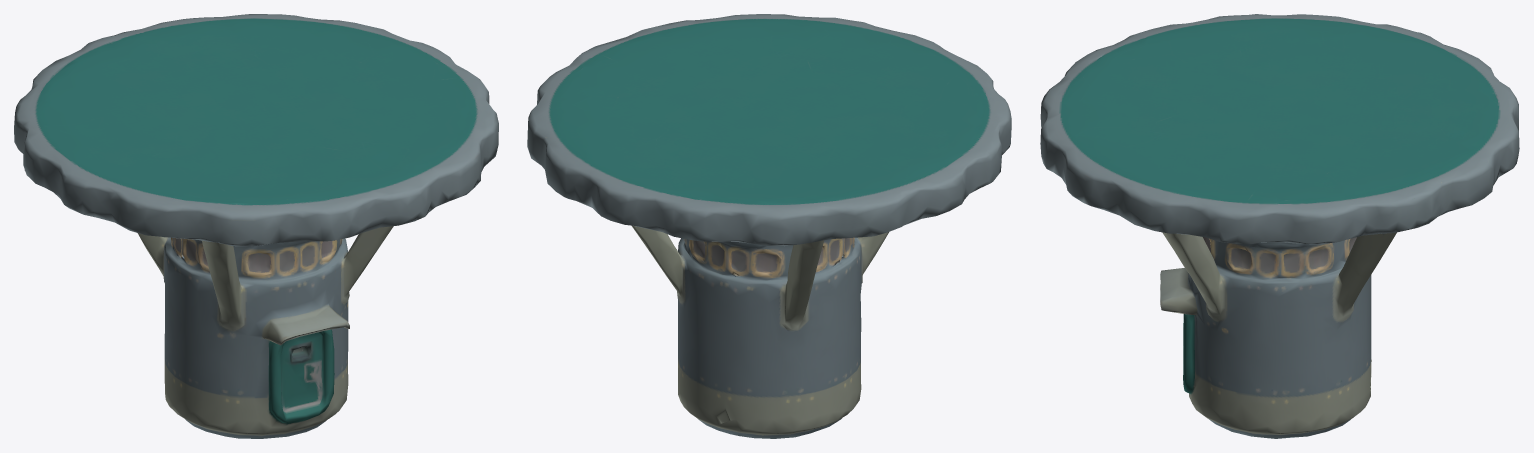
File: kupol-grib.glb
3 views of the same model, side by side, from view 1: azimuth 30°, elevation 25°; view 2: azimuth 150°, elevation 25°; view 3: azimuth 270°, elevation 25° (orthographic).
Parts seen in each view (by area): view 1: geometry_0; view 2: geometry_0; view 3: geometry_0.
Boxes of the visible parts, x1,y1,x2,y2 form: geometry_0: [14, 14, 498, 438]; geometry_0: [527, 14, 1011, 438]; geometry_0: [1040, 14, 1519, 438].
Bounding box in the file's own units: 0.9861 × 0.672 × 0.9864.
1 material, 1 textured.
